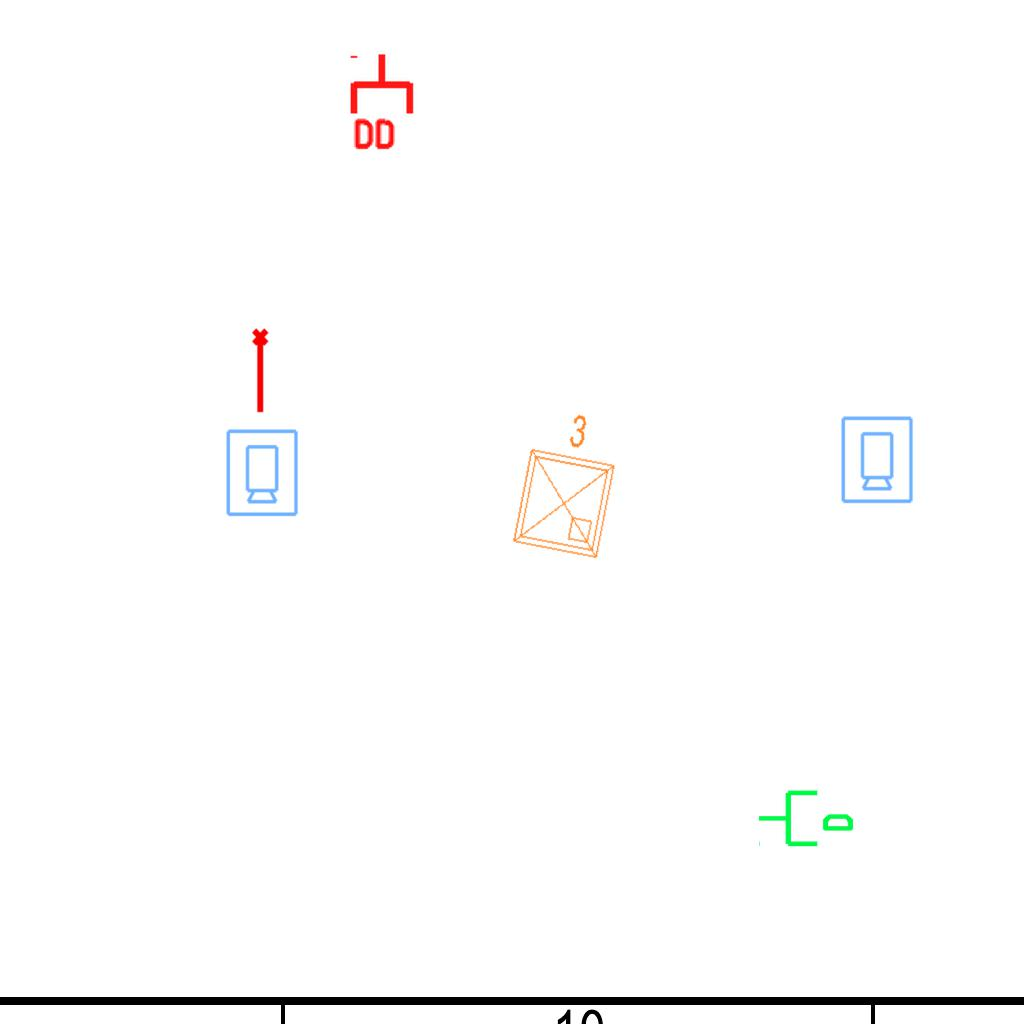ASR_Ansaugoeffnung: (250, 327, 273, 415)
Datenanschluss_einfach: (756, 782, 856, 851)
Datenanschluss_zweifach: (349, 51, 418, 154)
Einbaudownlights_LED_Konferenzraeume: (500, 399, 632, 567)
KFO_Kamera_mit_Festobjektiv: (223, 427, 300, 518), (838, 414, 915, 505)
